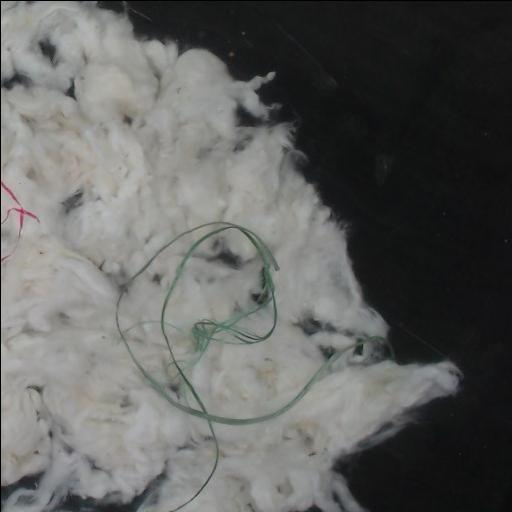conveyor belt: (128, 1, 512, 512)
cotton: (1, 1, 460, 512)
thread: (115, 221, 383, 512), (1, 179, 38, 237)
